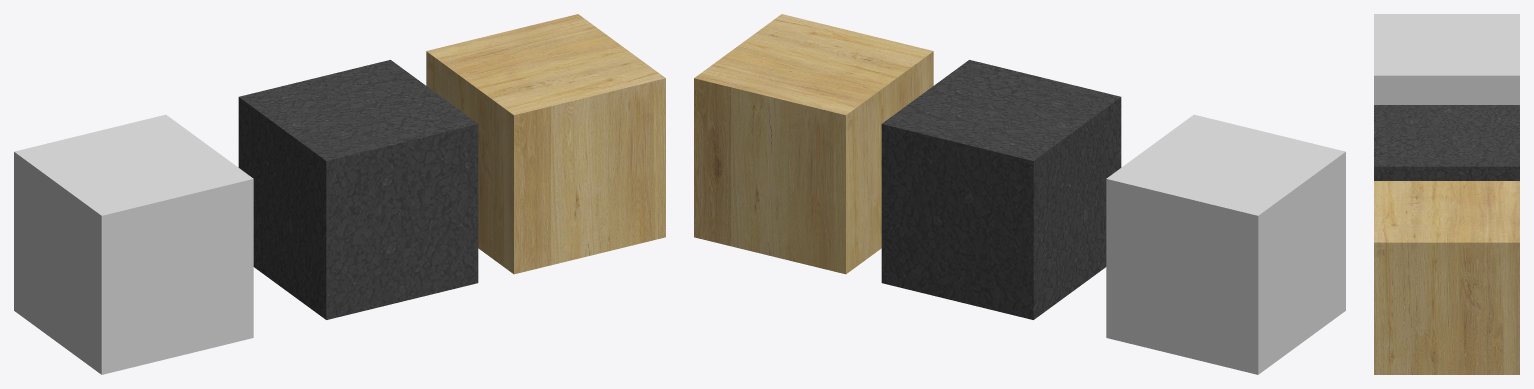
The model's file is Canopy_Materials.glb.
3 renders of one model, left to right at view 1: azimuth 30°, elevation 25°; view 2: azimuth 150°, elevation 25°; view 3: azimuth 270°, elevation 25°, orthographic. The views are drawn at different scales.
Parts seen in each view (by area): view 1: aluminium, asphalt, wood; view 2: aluminium, asphalt, wood; view 3: wood, aluminium, asphalt.
Part boxes in pixels (x1,y1,x2,y2): aluminium: (14, 114, 253, 374); asphalt: (238, 60, 478, 319); wood: (426, 14, 665, 274); aluminium: (1106, 114, 1345, 374); asphalt: (881, 60, 1121, 319); wood: (694, 14, 933, 274); wood: (1374, 181, 1519, 374); aluminium: (1374, 14, 1519, 104); asphalt: (1374, 105, 1519, 180).
Bounding box in the file's own units: 7.42 × 2 × 2.
Materials: 3 (2 with a texture image).
